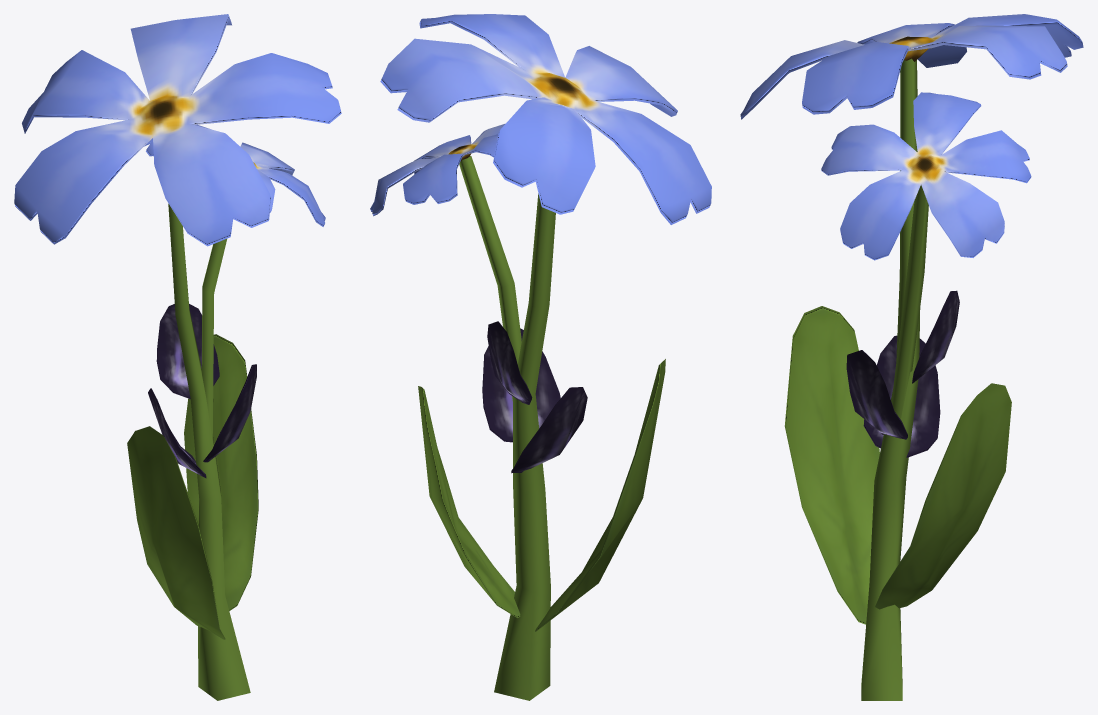
Rendered from Wildflower_Myosotis.fbx.
3 views of the same model, side by side, from view 1: azimuth 30°, elevation 25°; view 2: azimuth 150°, elevation 25°; view 3: azimuth 270°, elevation 25° (orthographic). The views are drawn at different scales.
Parts seen in each view (by area): view 1: WildFlower_Myosotis; view 2: WildFlower_Myosotis; view 3: WildFlower_Myosotis.
Part boxes in pixels (left/top/right/bottom): WildFlower_Myosotis: left=14, top=14, right=341, bottom=700; WildFlower_Myosotis: left=370, top=14, right=711, bottom=700; WildFlower_Myosotis: left=740, top=14, right=1083, bottom=700.
Size of the model in its own units: 20.73 by 44.81 by 20.63.
